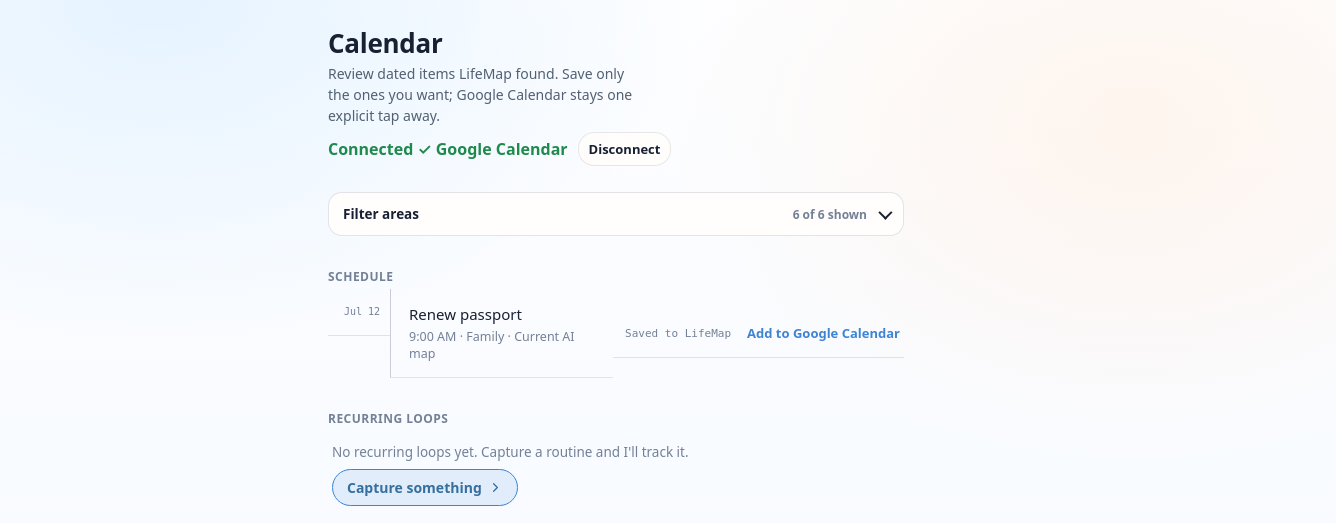
CalendarView Google push › pushes a saved event to Google Calendar on tap
What coordinates should you click on to do the following:
click the button "Add to Google Calendar"
I would click on:
 (824, 333)
Its box is [743,316,904,350].
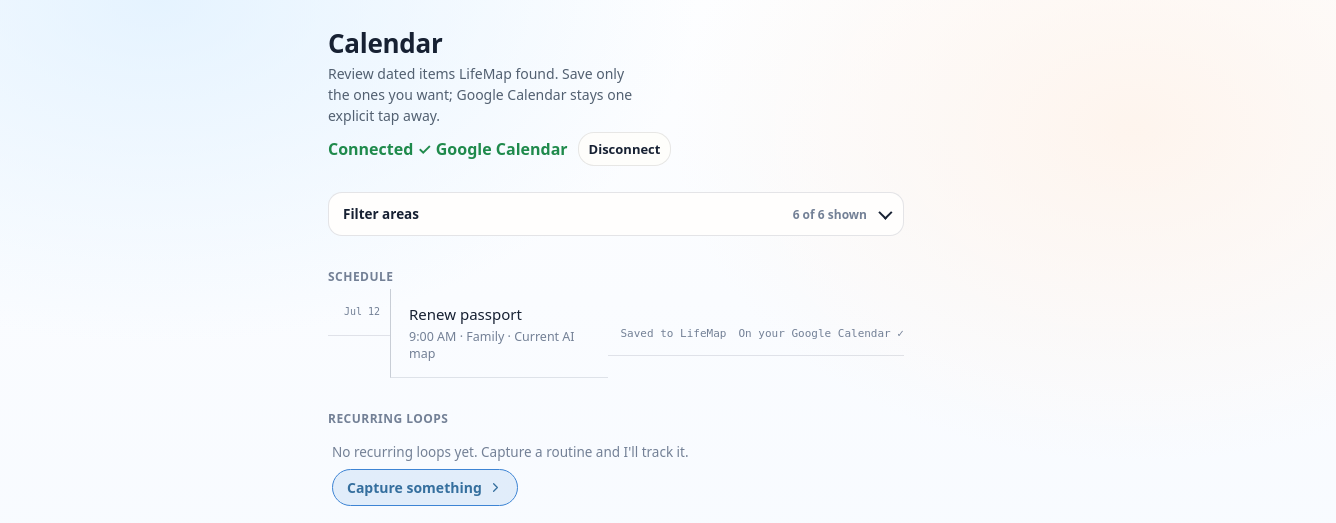
Result: the text "On your Google Calendar ✓" is shown at [738,327,904,340]
